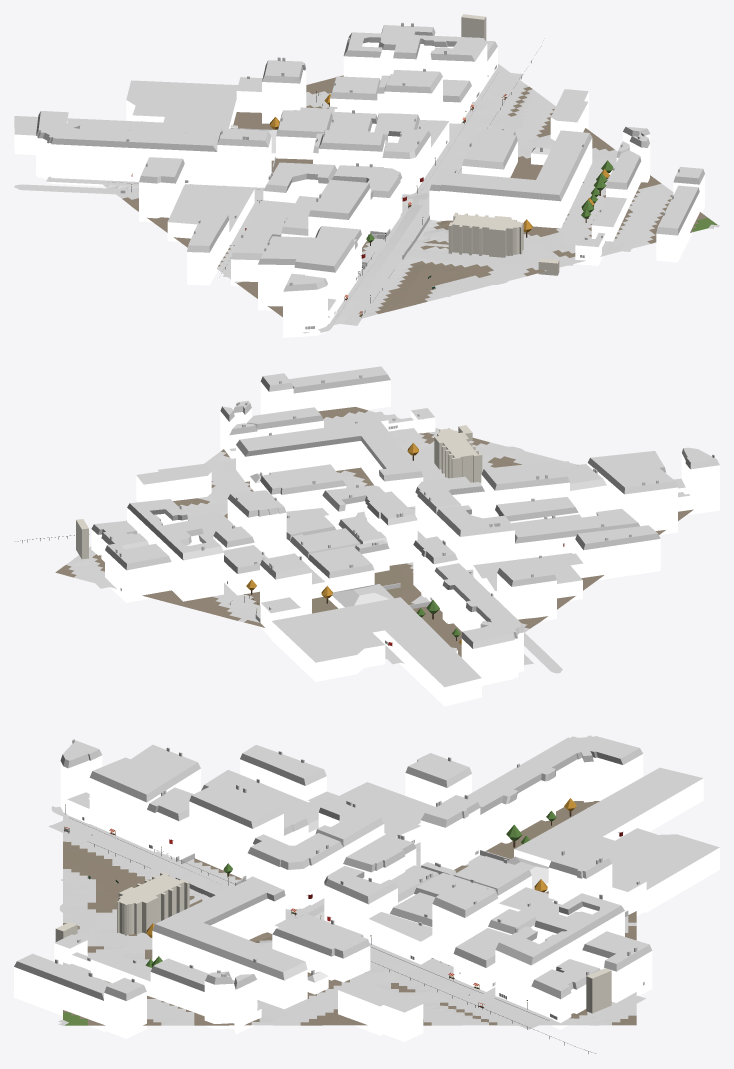
Rendered from zone_B6.glb.
The picture shows the model from 3 angles, top to bottom: view 1: azimuth 30°, elevation 25°; view 2: azimuth 150°, elevation 25°; view 3: azimuth 270°, elevation 25°; orthographic projection. The views are drawn at different scales.
Visible parts, largest first — view 1: zone_B6_batiments, zone_B6_terrain, zone_B6_sol_NOCOL, zone_B6_decor_NOCOL; view 2: zone_B6_batiments, zone_B6_terrain, zone_B6_sol_NOCOL, zone_B6_decor_NOCOL; view 3: zone_B6_batiments, zone_B6_terrain, zone_B6_sol_NOCOL, zone_B6_decor_NOCOL.
Boxes of the visible parts, left/top/right/bottom form: zone_B6_batiments: left=14, top=14, right=704, bottom=337; zone_B6_terrain: left=103, top=64, right=717, bottom=333; zone_B6_sol_NOCOL: left=14, top=70, right=719, bottom=332; zone_B6_decor_NOCOL: left=131, top=60, right=613, bottom=317; zone_B6_batiments: left=76, top=366, right=719, bottom=706; zone_B6_terrain: left=55, top=407, right=693, bottom=663; zone_B6_sol_NOCOL: left=74, top=414, right=570, bottom=673; zone_B6_decor_NOCOL: left=18, top=443, right=471, bottom=644; zone_B6_batiments: left=14, top=735, right=719, bottom=1041; zone_B6_terrain: left=63, top=801, right=636, bottom=1025; zone_B6_sol_NOCOL: left=48, top=806, right=646, bottom=1029; zone_B6_decor_NOCOL: left=65, top=798, right=595, bottom=1053.
Bounding box in the file's own units: 263 × 29.58 × 258.
